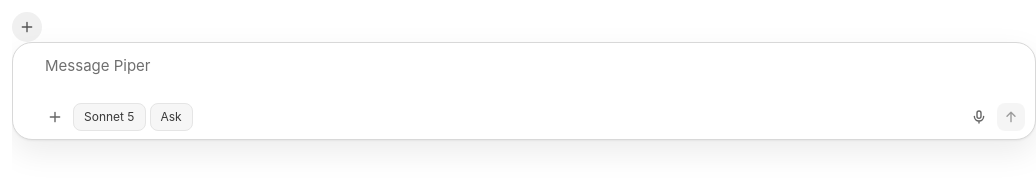
Test: composer pickers: skills, mentions and the clipboard › a skill added from the + menu also shows its name
What coordinates should you click on to do the following:
click the 1st button named "Attach file"
I would click on:
 (27, 27)
Its box is x1=12 y1=12 x2=42 y2=42.
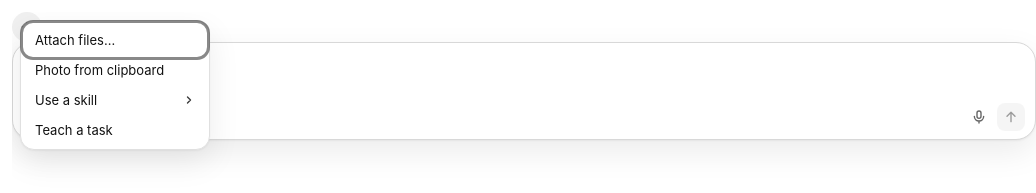
What coordinates should you click on to do the following:
click the menu item "Use a skill"
I would click on:
 (115, 100)
Its box is x1=25 y1=85 x2=205 y2=115.
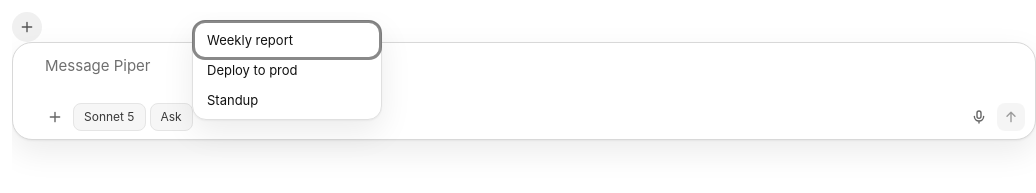
What coordinates should you click on to do the following:
click the menu item "Weekly report"
I would click on:
 (287, 40)
Its box is x1=197 y1=25 x2=377 y2=55.
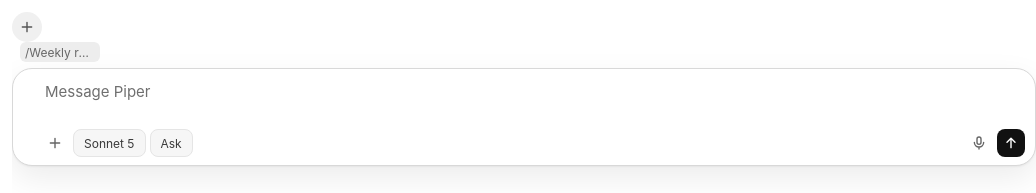
Expected: the text "/Weekly report" is shown, x1=20 y1=42 x2=100 y2=62
